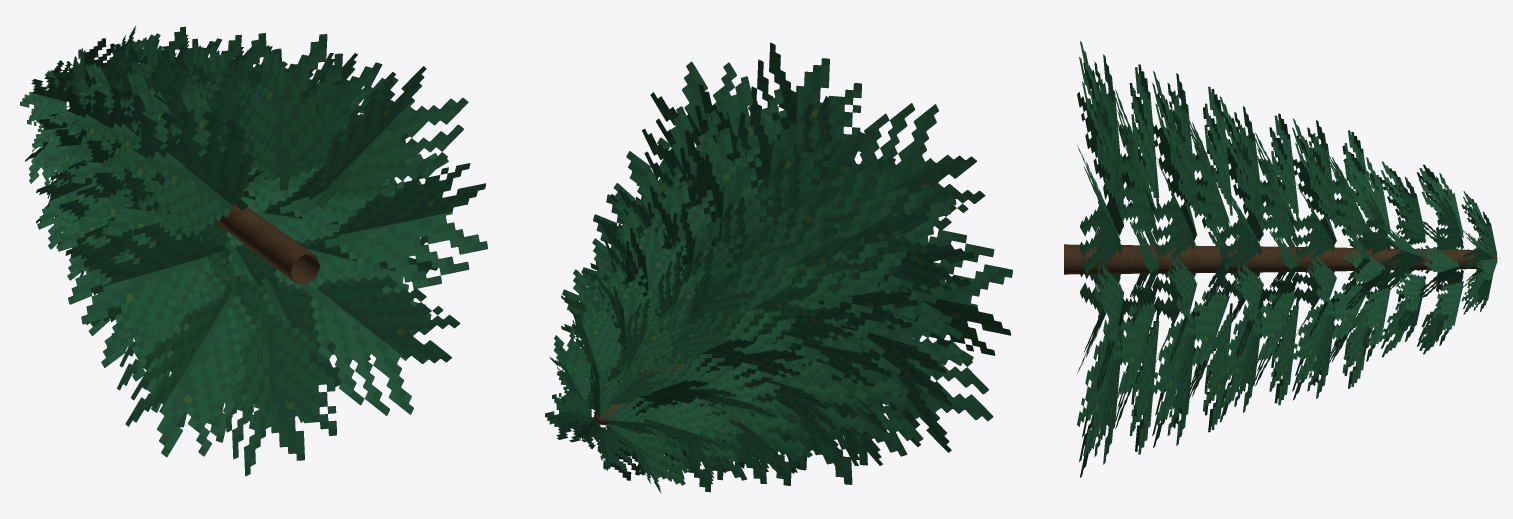
The model's file is Spruce1.fbx.
The picture shows the model from 3 angles, left to right: view 1: azimuth 30°, elevation 25°; view 2: azimuth 150°, elevation 25°; view 3: azimuth 270°, elevation 25°; orthographic projection. The views are drawn at different scales.
Visible parts, largest first — view 1: Spruce1; view 2: Spruce1; view 3: Spruce1.
Part boxes in pixels (<box>): Spruce1: <box>20,26,487,476</box>; Spruce1: <box>545,42,1012,492</box>; Spruce1: <box>1064,41,1497,477</box>.
Size of the model in its own units: 168 by 168 by 156.
